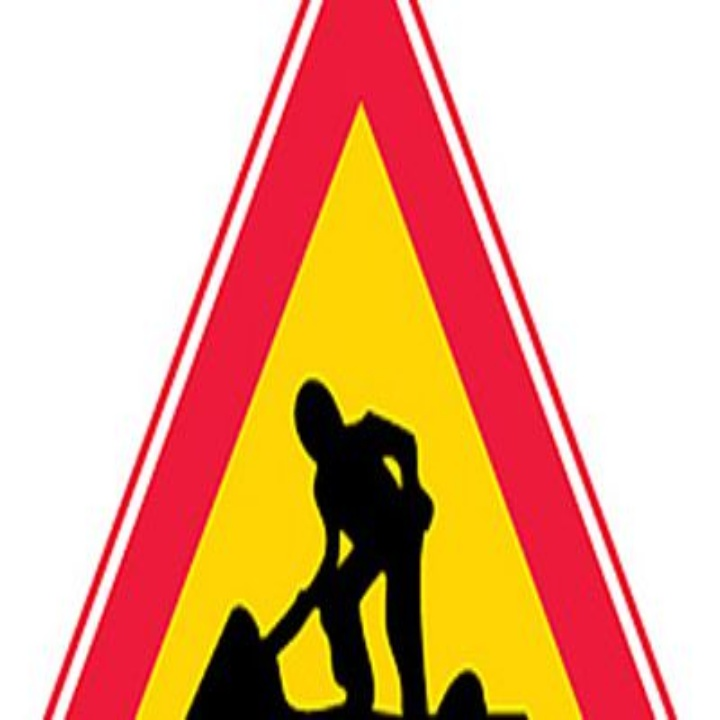const: (167, 370, 532, 720)
